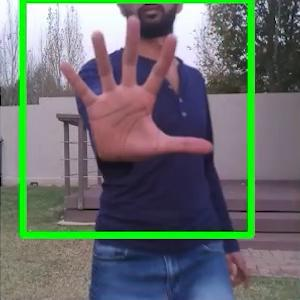follow_hand: (56, 11, 215, 167)
